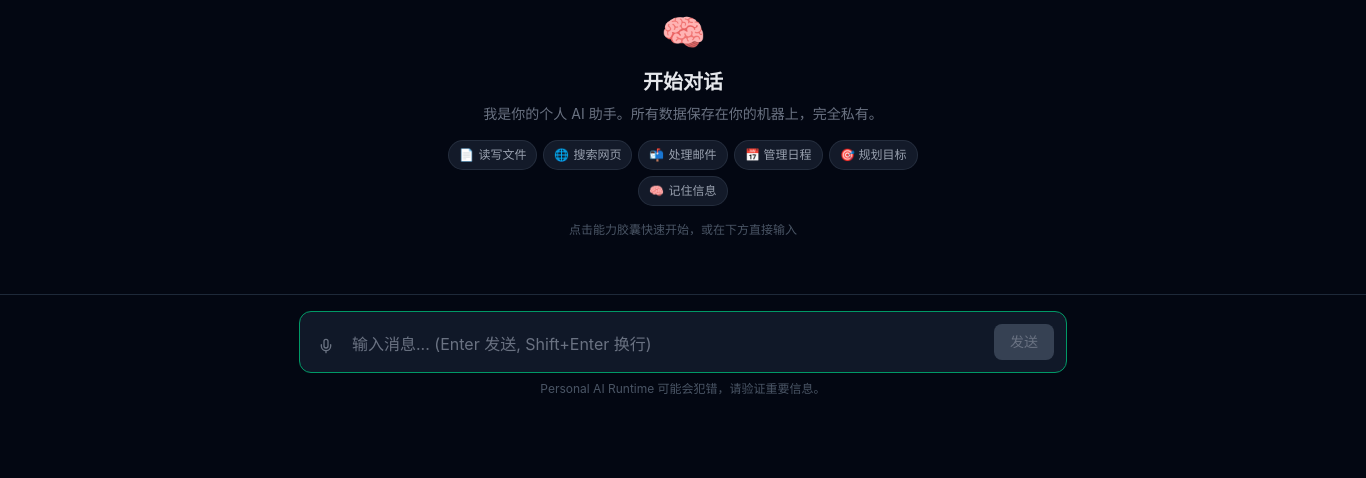
Test: ChatView › shows approval dialog when stream requests confirmation
The width and height of the screenshot is (1366, 478).
Type "create a file" into the text box with placeholder "输入消息... (Enter 发送, Shift+Enter 换行)" at coordinates (667, 344), box top-left (352, 328), bottom-right (982, 360)
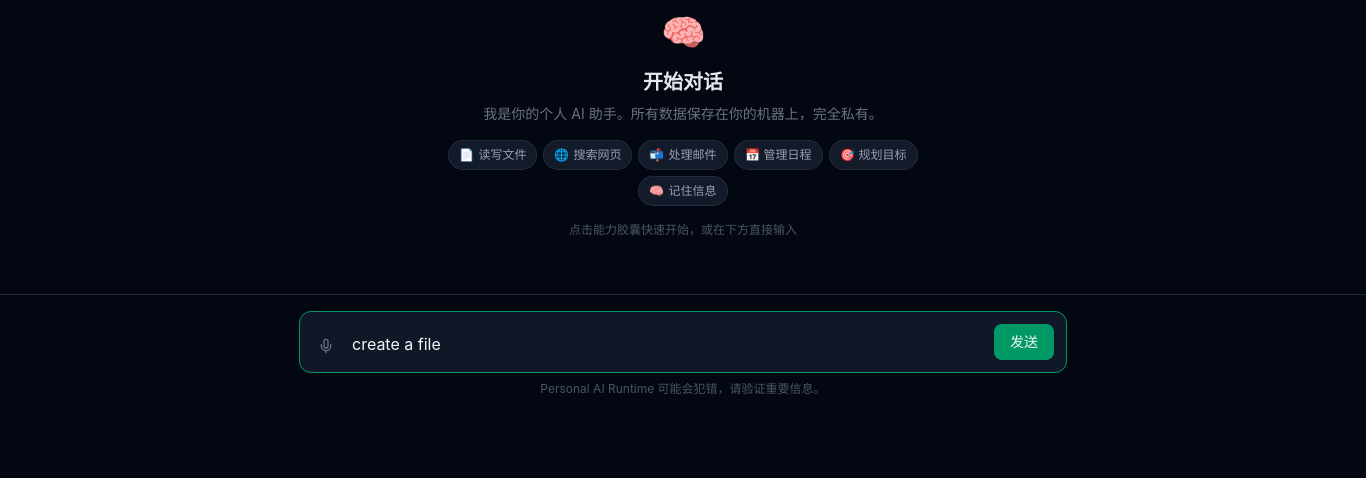
Click the button "发送" at coordinates (1024, 342), box top-left (994, 324), bottom-right (1054, 360)
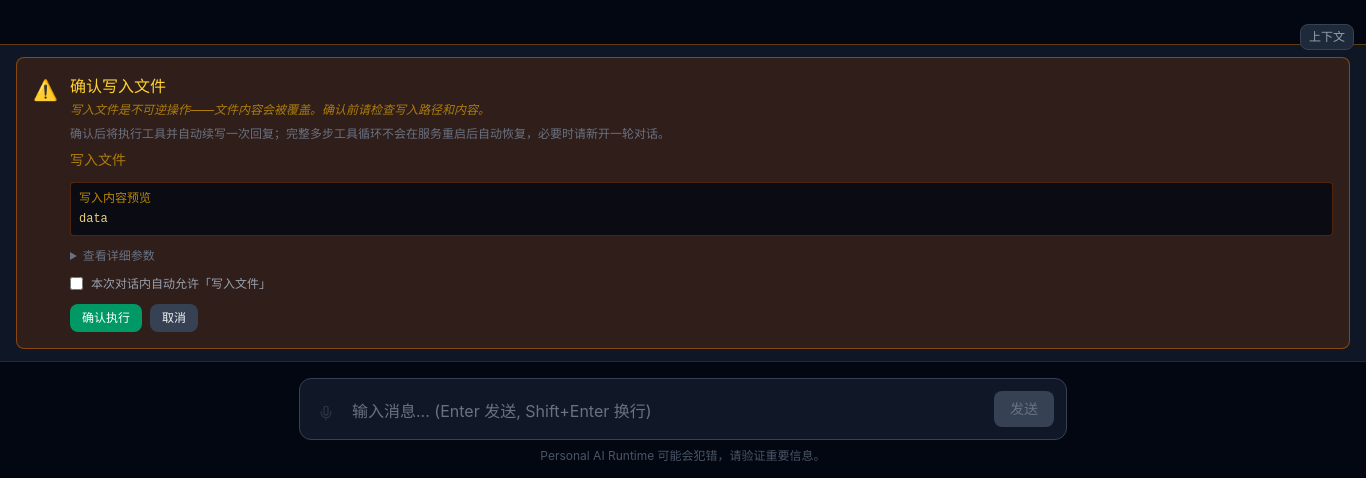
Expected: the heading "确认写入文件" is shown, top-left (70, 76), bottom-right (166, 96)
